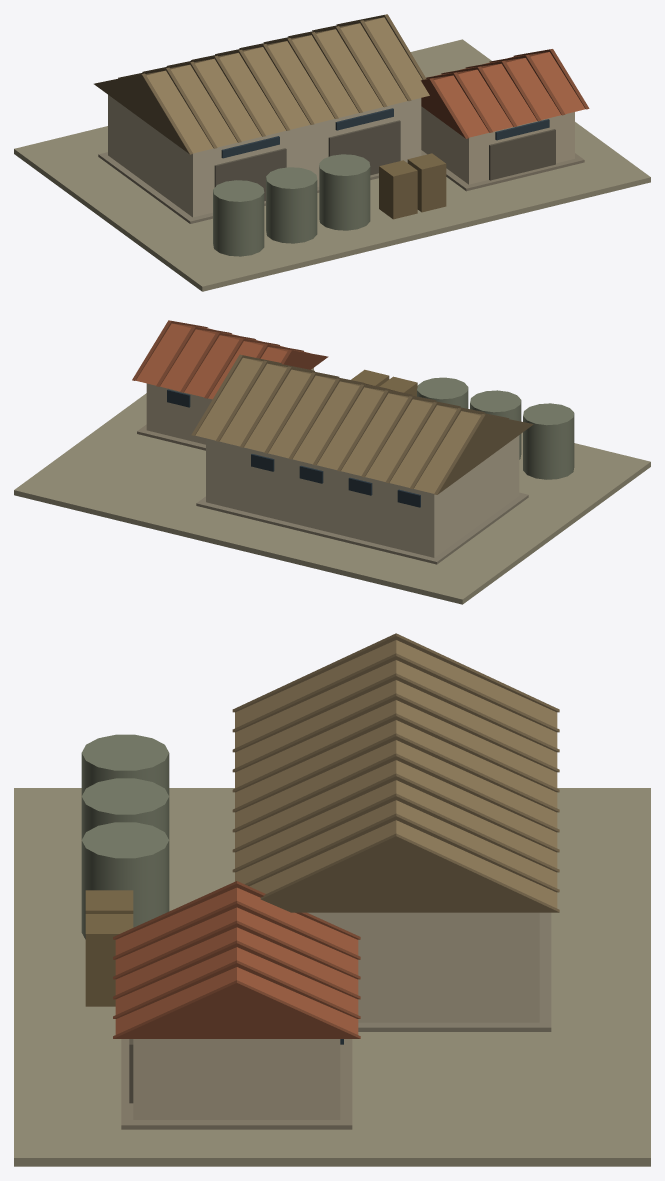
Rendered from supply_depot.glb.
The picture shows the model from 3 angles, top to bottom: view 1: azimuth 30°, elevation 25°; view 2: azimuth 150°, elevation 25°; view 3: azimuth 270°, elevation 25°; orthographic projection. The views are drawn at different scales.
Parts seen in each view (by area): view 1: _MeshInstance3D_95, _MeshInstance3D_98, _MeshInstance3D_96, _MeshInstance3D_120, _MeshInstance3D_118, _MeshInstance3D_131, _MeshInstance3D_132, _MeshInstance3D_133, _MeshInstance3D_99, _MeshInstance3D_127, _MeshInstance3D_112, _MeshInstance3D_110 (+24 smaller); view 2: _MeshInstance3D_95, _MeshInstance3D_96, _MeshInstance3D_98, _MeshInstance3D_120, _MeshInstance3D_131, _MeshInstance3D_99, _MeshInstance3D_97, _MeshInstance3D_118, _MeshInstance3D_132, _MeshInstance3D_133, _MeshInstance3D_121, _MeshInstance3D_103 (+11 smaller); view 3: _MeshInstance3D_95, _MeshInstance3D_98, _MeshInstance3D_96, _MeshInstance3D_120, _MeshInstance3D_118, _MeshInstance3D_109, _MeshInstance3D_126, _MeshInstance3D_133, _MeshInstance3D_119, _MeshInstance3D_132, _MeshInstance3D_131, _MeshInstance3D_97 (+18 smaller).
Boxes of the visible parts, bbox=[...] form: _MeshInstance3D_95: bbox=[14, 39, 650, 291]; _MeshInstance3D_98: bbox=[145, 17, 429, 153]; _MeshInstance3D_96: bbox=[108, 95, 421, 217]; _MeshInstance3D_120: bbox=[428, 52, 585, 137]; _MeshInstance3D_118: bbox=[421, 106, 574, 184]; _MeshInstance3D_131: bbox=[213, 180, 264, 256]; _MeshInstance3D_132: bbox=[266, 167, 317, 243]; _MeshInstance3D_133: bbox=[319, 154, 370, 230]; _MeshInstance3D_99: bbox=[94, 73, 192, 154]; _MeshInstance3D_127: bbox=[489, 129, 555, 180]; _MeshInstance3D_112: bbox=[328, 120, 400, 175]; _MeshInstance3D_110: bbox=[214, 148, 286, 200]; _MeshInstance3D_95: bbox=[14, 393, 650, 604]; _MeshInstance3D_96: bbox=[206, 435, 519, 557]; _MeshInstance3D_98: bbox=[195, 357, 481, 493]; _MeshInstance3D_120: bbox=[136, 323, 309, 399]; _MeshInstance3D_131: bbox=[523, 403, 574, 479]; _MeshInstance3D_99: bbox=[434, 414, 533, 494]; _MeshInstance3D_97: bbox=[196, 492, 528, 564]; _MeshInstance3D_118: bbox=[146, 368, 313, 444]; _MeshInstance3D_132: bbox=[470, 390, 521, 459]; _MeshInstance3D_133: bbox=[417, 377, 468, 408]; _MeshInstance3D_121: bbox=[281, 349, 328, 369]; _MeshInstance3D_103: bbox=[337, 390, 436, 471]; _MeshInstance3D_95: bbox=[14, 788, 650, 1166]; _MeshInstance3D_98: bbox=[235, 640, 557, 908]; _MeshInstance3D_96: bbox=[307, 912, 539, 1022]; _MeshInstance3D_120: bbox=[115, 887, 358, 1034]; _MeshInstance3D_118: bbox=[133, 1039, 340, 1119]; _MeshInstance3D_109: bbox=[260, 833, 559, 912]; _MeshInstance3D_126: bbox=[113, 980, 360, 1038]; _MeshInstance3D_133: bbox=[81, 822, 169, 939]; _MeshInstance3D_119: bbox=[121, 1039, 352, 1129]; _MeshInstance3D_132: bbox=[81, 778, 169, 839]; _MeshInstance3D_131: bbox=[81, 734, 169, 795]; _MeshInstance3D_97: bbox=[358, 912, 551, 1031].
Size of the model in its own units: 11 by 2.86 by 8.
